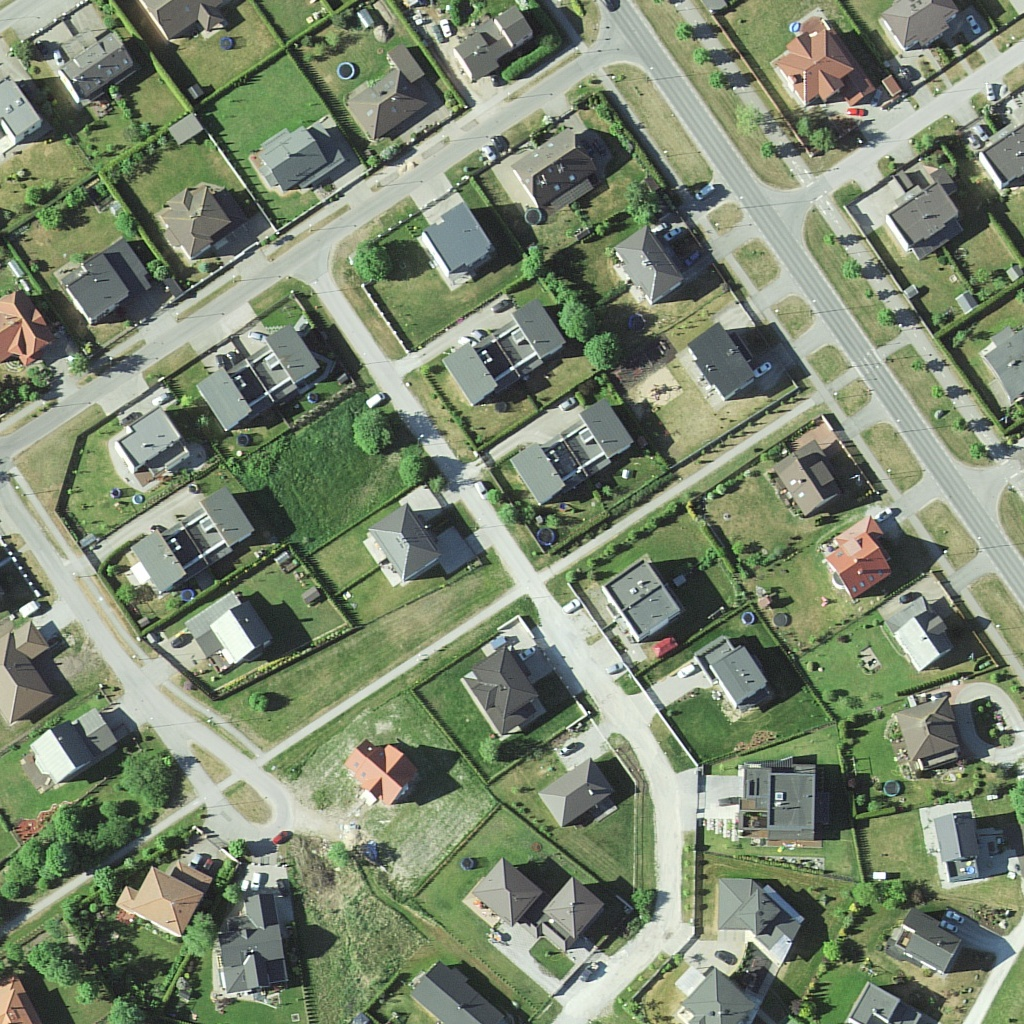building: (130, 482, 255, 595), (196, 324, 309, 435), (509, 403, 636, 501), (437, 305, 558, 404), (770, 24, 872, 115), (742, 756, 825, 858), (417, 203, 504, 286), (516, 125, 602, 208), (463, 648, 540, 738), (189, 588, 269, 672), (447, 8, 535, 83), (128, 870, 211, 946), (350, 63, 434, 136), (111, 412, 197, 483), (341, 737, 422, 809), (76, 232, 143, 319), (35, 711, 120, 779), (618, 221, 684, 308), (890, 184, 964, 261), (542, 755, 614, 833), (614, 558, 681, 641), (367, 502, 443, 573), (414, 959, 494, 1024), (702, 630, 771, 705), (264, 119, 342, 185), (54, 36, 132, 102), (2, 622, 51, 724), (161, 179, 228, 253), (221, 926, 296, 991), (695, 328, 762, 398), (895, 908, 967, 973), (894, 597, 952, 676), (903, 695, 958, 776), (468, 866, 541, 923), (783, 436, 832, 518), (837, 525, 890, 596), (2, 293, 52, 365), (690, 968, 755, 1023), (938, 810, 989, 879), (881, 1, 957, 42), (720, 872, 767, 937), (548, 879, 604, 932), (864, 984, 914, 1024)
